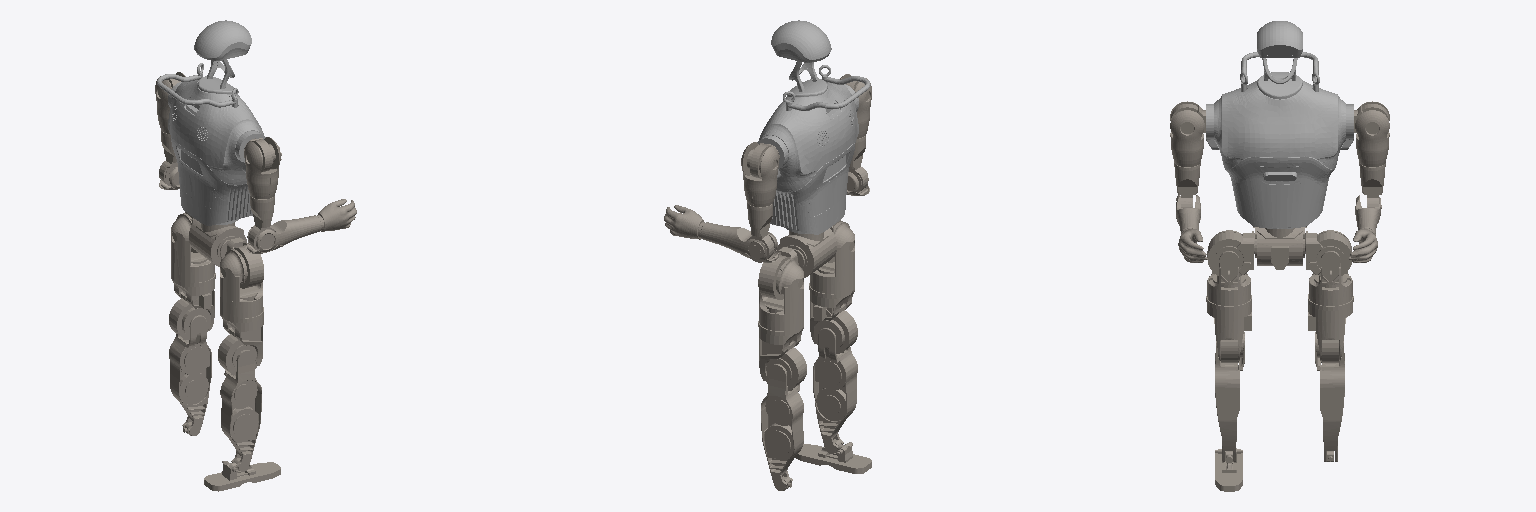
--- Facts derived from the render (not from the file) ---
Views: 3 orthographic renders of the robot side by side, from view 1: azimuth 30°, elevation 25°; view 2: azimuth 150°, elevation 25°; view 3: azimuth 270°, elevation 25°.
Model e3 with 23 links and 22 joints (21 revolute, 1 fixed), rooted at pelvis_link, posed every joint at zero.
Visible links, largest first — view 1: torso_link, left_knee_link, right_knee_link, right_elbow_link, right_hip_roll_link, left_hip_roll_link, left_hip_yaw_link, right_hip_yaw_link, right_shoulder_roll_link, pelvis_link, right_ankle_roll_link, right_hip_pitch_link (+3 smaller); view 2: torso_link, right_knee_link, left_knee_link, left_hip_roll_link, left_elbow_link, right_hip_roll_link, right_hip_yaw_link, left_hip_yaw_link, left_shoulder_roll_link, pelvis_link, right_ankle_roll_link, left_shoulder_yaw_link (+3 smaller); view 3: torso_link, right_knee_link, left_knee_link, left_hip_roll_link, right_hip_roll_link, pelvis_link, left_shoulder_roll_link, right_shoulder_roll_link, right_hip_yaw_link, left_hip_yaw_link, right_hip_pitch_link, left_hip_pitch_link (+5 smaller).
Boxes of the visible links, x1,y1,x2,y2 form: torso_link: (157, 20, 265, 225); left_knee_link: (169, 315, 211, 435); right_knee_link: (220, 350, 261, 471); right_elbow_link: (246, 199, 356, 253); right_hip_roll_link: (220, 249, 263, 322); left_hip_roll_link: (171, 213, 215, 286); left_hip_yaw_link: (169, 281, 214, 339); right_hip_yaw_link: (218, 316, 263, 375); right_shoulder_roll_link: (244, 137, 280, 198); pelvis_link: (189, 218, 246, 266); right_ankle_roll_link: (204, 461, 280, 491); right_hip_pitch_link: (220, 237, 263, 288); torso_link: (757, 20, 870, 234); right_knee_link: (813, 328, 857, 453); left_knee_link: (761, 364, 803, 490); left_hip_roll_link: (758, 259, 803, 335); left_elbow_link: (664, 205, 778, 262); right_hip_roll_link: (809, 222, 854, 298); right_hip_yaw_link: (810, 292, 857, 353); left_hip_yaw_link: (759, 329, 806, 390); left_shoulder_roll_link: (741, 142, 778, 206); pelvis_link: (777, 226, 836, 277); right_ankle_roll_link: (795, 442, 871, 473); left_shoulder_yaw_link: (747, 203, 774, 262); torso_link: (1206, 21, 1353, 228); right_knee_link: (1215, 332, 1244, 461); left_knee_link: (1315, 332, 1344, 461); left_hip_roll_link: (1308, 230, 1353, 310); right_hip_roll_link: (1206, 230, 1251, 310); pelvis_link: (1253, 226, 1306, 269); left_shoulder_roll_link: (1355, 101, 1389, 166); right_shoulder_roll_link: (1170, 101, 1204, 166); right_hip_yaw_link: (1207, 304, 1251, 362); left_hip_yaw_link: (1308, 304, 1352, 362); right_hip_pitch_link: (1207, 231, 1254, 276); left_hip_pitch_link: (1305, 231, 1351, 276).
Size in the robot's own frame: 0.4943 by 0.6129 by 1.39 metres.
Meshes: 22 distinct files referenced, 21 mesh visuals loaded (21 binary STL); not drawn: 1 (reference not matched to a file when rendering).

URDF robot description (e3):
<?xml version="1.0" encoding="utf-8"?>
<!-- This URDF was automatically created by SolidWorks to URDF Exporter! Originally created by Stephen Brawner ([email redacted]) 
     Commit Version: 1.6.0-4-g7f85cfe  Build Version: 1.6.7995.38578
     For more information, please see http://wiki.ros.org/sw_urdf_exporter -->
<robot name="e3">
  <!-- <mujoco>
    <compiler meshdir="meshes" discardvisual="false"/>
  </mujoco>
  <link name="world"></link>
  <joint name="floating_base_joint" type="floating">
    <parent link="world"/>
    <child link="pelvis_link"/>
  </joint> -->


  <link
    name="pelvis_link">
    <inertial>
      <origin
        xyz="0.000508 0.000303 0.035758"
        rpy="0 0 0" />
      <mass
        value="5.119835" />
      <inertia
        ixx="0.022863"
        ixy="0.000002"
        ixz="0.000106"
        iyy="0.019513"
        iyz="-0.000153"
        izz="0.012083" />
    </inertial>
    <visual>
      <origin
        xyz="0 0 0"
        rpy="0 0 0" />
      <geometry>
        <mesh
          filename="./meshes/pelvis.STL" />
      </geometry>
      <material
        name="">
        <color
          rgba="0.64706 0.61961 0.58824 1" />
      </material>
    </visual>
    <collision>
      <origin
        xyz="0 0 0"
        rpy="0 0 0" />
      <geometry>
        <mesh filename="meshes/pelvis.STL"/>
      </geometry>
    </collision>
  </link>

  <joint name="imu_joint" type="fixed">
    <origin rpy="0. 0. 0." xyz="0. 0. 0"/>
    <parent link="pelvis_link"/>
    <child link="imu_link"/>
  </joint>

    <!-- Imu link -->
  <link name="imu_link">
    <inertial>
      <mass value="0.01"/>
      <origin rpy="0 0 0" xyz="0 0 0"/>
      <inertia ixx="0.000001" ixy="0" ixz="0" iyy="0.000001" iyz="0" izz="0.000001"/>
    </inertial>
    <visual>
      <origin rpy="0 0 0" xyz="0 0 0"/>
      <geometry>
        <box size="0.015 0.015 0.004"/>
      </geometry>
    </visual>
    <material name="orange">
      <color rgba="255 108 10 255"/>
    </material>
  </link>

    <!-- Torso -->
  <joint name="waist_joint" type="revolute">
    <origin xyz="0 0 0.3763" rpy="0 0 0"/>
    <parent link="pelvis_link"/>
    <child link="torso_link"/>
    <axis xyz="0 0 1"/>
    <limit lower="-1.57" upper="1.57" effort="144" velocity="20"/>
  </joint>
  
  <link name="torso_link">
    <inertial>
      <origin xyz="-0.006939 -0.002038 -0.085719" rpy="0 0 0"/>
      <mass value="13.759631"/>
      <inertia ixx="0.327498" ixy="0.000705" ixz="0.001071" iyy="0.269489" iyz="-0.004427" izz="0.140454"/>
    </inertial>
    <visual>
      <origin xyz="0 0 0.0" rpy="0 0 0"/>
      <geometry>
        <mesh filename="meshes/torso_link.STL"/>
      </geometry>
      <material name="white">
        <color rgba="0.7 0.7 0.7 1"/>
      </material>
    </visual>
    <collision>
      <origin xyz="0 0 0.0" rpy="0 0 0"/>
      <geometry>
        <mesh filename="meshes/torso_link.STL"/>
      </geometry>
    </collision>
  </link>

  <link
    name="left_hip_pitch_link">
    <inertial>
      <origin  xyz="0.011949 -0.00848 -0.026594"  rpy="0 0 0" />
      <mass value="1.816901" />
      <inertia ixx="0.001651"  ixy="-0.000034"  ixz="0.000015"  iyy="0.000959"  iyz="0.000201"  izz="0.001576" />
    </inertial>
    <visual>
      <origin
        xyz="0 0 0"
        rpy="0 0 0" />
      <geometry>
        <mesh
          filename="./meshes/leg_l1_link.STL" />
      </geometry>
      <material
        name="">
        <color
          rgba="0.64706 0.61961 0.58824 1" />
      </material>
    </visual>
    <collision>
      <origin xyz="0 0 0.0" rpy="0 0 0"/>
      <geometry>
        <mesh filename="meshes/leg_l1_link.STL"/>
      </geometry>
    </collision>
  </link>
  <joint
    name="left_hip_pitch_joint"
    type="revolute">
    <origin
      xyz="0 0.1413 0"
      rpy="0 0 0" />
    <parent
      link="pelvis_link" />
    <child
      link="left_hip_pitch_link" />
    <axis
      xyz="0 1 0" />
    <limit
      lower="-2.53"
      upper="2.53"
      effort="144"
      velocity="20" />
  </joint>
  <link
    name="left_hip_roll_link">
    <inertial>
      <origin  xyz="-0.002932 0.000098 -0.097396"  rpy="0 0 0" />
      <mass  value="2.261445" />
      <inertia   ixx="0.005632" ixy="-0.000002" ixz="0.000169"  iyy="0.006378" iyz="0.000004" izz="0.004402" />
    </inertial>
    <visual>
      <origin
        xyz="0 0 0"
        rpy="0 0 0" />
      <geometry>
         
        <mesh
          filename="./meshes/leg_l2_link_144.STL" />
      </geometry>
      <material
        name="">
        <color
          rgba="0.64706 0.61961 0.58824 1" />
      </material>
    </visual>
    <!-- <collision>
      <origin
        xyz="0 0 0"
        rpy="0 1.57 0" />
      <geometry>
         <cylinder length="0.05" radius="0.06"/>
      </geometry>
    </collision> -->
    <collision>
      <origin xyz="0 0 0.0" rpy="0 0 0"/>
      <geometry>
        <mesh filename="meshes/leg_l2_link_144.STL"/>
      </geometry>
    </collision>
  </link>
  <joint
    name="left_hip_roll_joint"
    type="revolute">
    <origin
      xyz="0.0 0 -0.0285"
      rpy="0 0 0" />
    <parent
      link="left_hip_pitch_link" />
    <child
      link="left_hip_roll_link" />
    <axis
      xyz="1 0 0" />
    <limit
      lower="-0.611"
      upper="3.23"
      effort="144"
      velocity="20" />
  </joint>
  <link
    name="left_hip_yaw_link">
    <inertial>
      <origin xyz="-0.001336 -0.000844 -0.104378" rpy="0 0 0" />
      <mass value="2.233223" />
      <inertia  ixx="0.005397" ixy="-0.000015"  ixz="-0.000535" iyy="0.0057" iyz="0.000012"  izz="0.001962" />
    </inertial>
    <visual>
      <origin
        xyz="0 0 0"
        rpy="0 0 0" />
      <geometry>
        <mesh
          filename="./meshes/leg_l3_link_144.STL" />
      </geometry>
      <material
        name="">
        <color
          rgba="0.64706 0.61961 0.58824 1" />
      </material>
    </visual>
    <!-- <collision>
      <origin
        xyz="0 0 -0.05"
        rpy="0 0 0" />
      <geometry>
          <box size="0.05 0.05 0.15"/>
      </geometry>
    </collision> -->
    <collision>
      <origin xyz="0 0 0.0" rpy="0 0 0"/>
      <geometry>
        <mesh filename="meshes/leg_l3_link_144.STL"/>
      </geometry>
    </collision>
  </link>
  <joint
    name="left_hip_yaw_joint"
    type="revolute">
    <origin
      xyz="-0.0 0 -0.1458"
      rpy="0 0 0" />
    <parent
      link="left_hip_roll_link" />
    <child
      link="left_hip_yaw_link" />
    <axis
      xyz="0 0 1" />
    <limit
      lower="-1.05"
      upper="1.05"
      effort="144"
      velocity="20" />
  </joint>
  <link name="left_knee_link">
    <inertial>
      <origin  xyz="0.001004 0.001585 -0.170623"  rpy="0 0 0" />
      <mass  value="2.889750" />
      <inertia ixx="0.020628"  ixy="0.000043" ixz="0.000485"  iyy="0.021234"  iyz="-0.000475"  izz="0.002830" />
    </inertial>
    <visual>
      <origin
        xyz="0 0 0"
        rpy="0 0 0" />
      <geometry>
        <mesh
          filename="./meshes/leg_l4_link.STL" />
      </geometry>
      <material
        name="">
        <color
          rgba="0.64706 0.61961 0.58824 1" />
      </material>
    </visual>
    <collision>
      <origin
        xyz="0 0 -0.2"
        rpy="0 0 0" />
      <geometry>
          <box size="0.05 0.05 0.2"/>
      </geometry>
    </collision>
  </link>
  <joint
    name="left_knee_joint"
    type="revolute">
    <origin
      xyz="-0.008 0 -0.1317"
      rpy="0 0 0" />
    <parent
      link="left_hip_yaw_link" />
    <child
      link="left_knee_link" />
    <axis
      xyz="0 1 0" />
    <limit
      lower="-0.349"
      upper="2.355"
      effort="144"
      velocity="20" />
  </joint>

  <link
     name="left_ankle_pitch_link">
    <inertial>
      <origin  xyz="0 0 0"  rpy="0 0 0" />
      <mass  value="0.088534" />
       <!-- <inertia ixx="0.01" ixy="0" ixz="0.0" iyy="0.01" iyz="0" izz="0.01"/> -->
      <inertia
        ixx="3.0975E-05"
        ixy="0"
        ixz="0"
        iyy="3.1274E-05"
        iyz="0"
        izz="3.1681E-05" />
    </inertial>
    <visual>
      <origin
        xyz="0 0 0"
        rpy="0 0 0" />
      <geometry>
        <mesh
          filename="./meshes/leg_l5_link.STL" />
      </geometry>
      <material
        name="">
        <color
          rgba="0.64706 0.61961 0.58824 1" />
      </material>
    </visual>
  </link>
  
  <joint
    name="left_ankle_pitch_joint"
    type="revolute">
    <origin
      xyz="0 0 -0.35"
      rpy="0 0 0" />
    <parent
      link="left_knee_link" />
    <child
      link="left_ankle_pitch_link" />
    <axis
      xyz="0 1 0" />
    <limit
      lower="-0.785"
      upper="1.05"
      effort="48"
      velocity="20" />
  </joint>
  <link
    name="left_ankle_roll_link">
    <inertial>
      <origin xyz="-0.000705 1.4E-05 -0.028746"  rpy="0 0 0" />
      <mass  value="0.611" />
      <inertia ixx="0.01" ixy="0" ixz="0.0" iyy="0.01" iyz="0" izz="0.01"/>
      <!-- <inertia
        ixx="0.00105334189"
        ixy="-0.0"
        ixz="0.0"
        iyy="0.00606712875"
        iyz="0.0"
        izz="0.00646061141" /> -->
    </inertial>

    <visual>
      <origin
        xyz="0 0 0"
        rpy="0 0 0" />
      <geometry>
        <mesh
          filename="./meshes/leg_l6_link.STL" />
      </geometry>
      <material
        name="">
        <color
          rgba="0.64706 0.61961 0.58824 1" />
      </material>
    </visual>
    <collision>
      <origin rpy="0 0 0" xyz="0.01 0 -0.05"/>
      <geometry>
        <box size="0.22 0.06 0.01"/>
      </geometry>
    </collision>
     <!-- <collision>
      <origin
        xyz="0 0 0"
        rpy="0 0 0" />
      <geometry>
        <mesh
          filename="../meshes/leg_l6_link.STL" />
      </geometry>
    </collision> -->
  </link>
  <joint
    name="left_ankle_roll_joint"
    type="revolute">
    <origin
      xyz="0 0 0"
      rpy="0 0 0" />
    <parent
      link="left_ankle_pitch_link" />
    <child
      link="left_ankle_roll_link" />
    <axis
      xyz="1 0 0" />
    <limit
      lower="-0.26"
      upper="0.26"
      effort="48"
      velocity="20" />
  </joint>

  <link
   name="right_hip_pitch_link">
    <inertial>
      <origin  xyz="0.011914 0.008479 -0.026587"  rpy="0 0 0" />
      <mass value="1.816858" />
      <inertia ixx="0.001651"  ixy="0.000034"  ixz="0.000015"  iyy="0.000957"  iyz="-0.000201"  izz="0.001575" />
    </inertial>
    <visual>
      <origin
        xyz="0 0 0"
        rpy="0 0 0" />
      <geometry>
        <mesh
          filename="./meshes/leg_r1_link.STL" />
      </geometry>
      <material
        name="">
        <color
          rgba="0.64706 0.61961 0.58824 1" />
      </material>
    </visual>
    <collision>
      <origin
        xyz="0 0 0"
        rpy="0 0 0" />
      <geometry>
        <mesh
          filename="./meshes/leg_r1_link.STL" />
      </geometry>
    </collision>
  </link>
  <joint
    name="right_hip_pitch_joint"
    type="revolute">
    <origin
      xyz="0 -0.1413 0"
      rpy="0 0 0" />
    <parent
      link="pelvis_link" />
    <child
      link="right_hip_pitch_link" />
    <axis
      xyz="0 1 0" />
    <limit
      lower="-2.53"
      upper="2.53"
      effort="144"
      velocity="20" />
  </joint>
  <link
    name="right_hip_roll_link">
    <inertial>
      <origin  xyz="-0.002874 0.000215 -0.097305"  rpy="0 0 0" />
      <mass  value="2.020075" />
      <inertia   ixx="0.005648" ixy="-3E-6" ixz="0.000160"  iyy="0.006397" iyz="-0.000002" izz="0.004413" />
    </inertial>
    <visual>
      <origin
        xyz="0 0 0"
        rpy="0 0 0" />
      <geometry>
        <mesh
          filename="./meshes/leg_r2_link_144.STL" />
      </geometry>
      <material
        name="">
        <color
          rgba="0.64706 0.61961 0.58824 1" />
      </material>
    </visual>
    <!-- <collision>
      <origin
        xyz="0 0 0"
        rpy="0 1.57 0" />
      <geometry>
            <cylinder length="0.05" radius="0.06"/>
      </geometry>
    </collision> -->
    <collision>
      <origin
        xyz="0 0 0"
        rpy="0 0 0" />
      <geometry>
        <mesh
          filename="./meshes/leg_r2_link_144.STL" />
      </geometry>
    </collision>
  </link>
  <joint
    name="right_hip_roll_joint"
    type="revolute">
    <origin
      xyz="0 0 -0.0285"
      rpy="0 0 0" />
    <parent
      link="right_hip_pitch_link" />
    <child
      link="right_hip_roll_link" />
    <axis
      xyz="1 0 0" />
    <limit
      lower="-3.23"
      upper="0.611"
      effort="144"
      velocity="20" />
  </joint>
  <link
    name="right_hip_yaw_link">
    <inertial>
      <origin xyz="0.000912 0.001350 -0.104391" rpy="0 0 0" />
      <mass value="2.231719" />
      <inertia  ixx="0.005690" ixy="-0.000016"  ixz="-0.000008" iyy="0.005388" iyz="0.000535"  izz="0.001958" />
    </inertial>
    <visual>
      <origin
        xyz="0 0 0"
        rpy="0 0 0" />
      <geometry>
        <mesh
          filename="./meshes/leg_r3_link_144.STL" />
      </geometry>
      <material
        name="">
        <color
          rgba="0.64706 0.61961 0.58824 1" />
      </material>
    </visual>
    <!-- <collision>
      <origin
        xyz="0 0 -0.05"
        rpy="0 0 0" />
      <geometry>
           <box size="0.05 0.05 0.15"/>
      </geometry>
    </collision> -->
    <collision>
      <origin
        xyz="0 0 0"
        rpy="0 0 0" />
      <geometry>
        <mesh
          filename="./meshes/leg_r3_link_144.STL" />
      </geometry>
    </collision>
  </link>
  <joint
    name="right_hip_yaw_joint"
    type="revolute">
    <origin
      xyz="0 0 -0.1458"
      rpy="0 0 0" />
    <parent
      link="right_hip_roll_link" />
    <child
      link="right_hip_yaw_link" />
    <axis
      xyz="0 0 1" />
    <limit
      lower="-1.05"
      upper="1.05"
      effort="144"
      velocity="20" />
  </joint>
  <link
    name="right_knee_link">
    <inertial>
      <origin  xyz="-0.001668 -0.001457 -0.178503"  rpy="0 0 0" />
      <mass  value="2.866292" />
      <inertia ixx="0.022193"  ixy="-0.000046" ixz="-0.000519"  iyy="0.023014"  iyz="0.000295"  izz="0.002999" />
    </inertial>
    <visual>
      <origin
        xyz="0 0 0"
        rpy="0 0 0" />
      <geometry>
        <mesh
          filename="./meshes/leg_r4_link.STL" />
      </geometry>
      <material
        name="">
        <color
          rgba="0.64706 0.61961 0.58824 1" />
      </material>
    </visual>
    <collision>
      <origin
        xyz="0 0 -0.2"
        rpy="0 0 0" />
      <geometry>
          <box size="0.05 0.05 0.2"/>
      </geometry>
    </collision>
  </link>
  <joint
    name="right_knee_joint"
    type="revolute">
    <origin
      xyz="-0.008 0 -0.1317"
      rpy="0 0 0" />
    <parent
      link="right_hip_yaw_link" />
    <child
      link="right_knee_link" />
    <axis
      xyz="0 1 0" />
    <limit
      lower="-0.349"
      upper="2.355"
      effort="144"
      velocity="20" />
  </joint>

  <link name="right_ankle_pitch_link">
    <inertial>
      <origin  xyz="0 0 0"  rpy="0 0 0" />
      <mass  value="0.088534" />
      <!-- <inertia ixx="0.01" ixy="0" ixz="0" iyy="0.01" iyz="0" izz="0.01"/> -->
      <inertia
        ixx="3.0975E-05"
        ixy="0"
        ixz="0"
        iyy="3.1274E-05"
        iyz="0"
        izz="3.1274E-05" />

    </inertial>

    <visual>
      <origin
        xyz="0 0 0"
        rpy="0 0 0" />
      <geometry>
        <mesh
          filename="./meshes/leg_r5_link.STL" />
      </geometry>
      <material
        name="">
        <color
          rgba="0.64706 0.61961 0.58824 1" />
      </material>
    </visual>
  </link>
  <joint
    name="right_ankle_pitch_joint"
    type="revolute">
    <origin
      xyz="0 0 -0.35"
      rpy="0 0 0" />
    <parent
      link="right_knee_link" />
    <child
      link="right_ankle_pitch_link" />
    <axis
      xyz="0 1 0" />
    <limit
      lower="-0.785"
      upper="1.05"
      effort="48"
      velocity="20" />
  </joint>
  <link
    name="right_ankle_roll_link">
    <inertial>
      <origin xyz="-0.000705 1.4E-05 -0.028746"  rpy="0 0 0" />
      <mass  value="0.611" />
      <inertia ixx="0.01" ixy="0" ixz="0.0" iyy="0.01" iyz="0" izz="0.01"/>
      <!-- <inertia
        ixx="0.00105336111"
        ixy="0.0"
        ixz="0.0"
        iyy="0.00606728572"
        iyz="-0.0"
        izz="0.00646075577" /> -->
    </inertial>

    <visual>
      <origin
        xyz="0 0 0"
        rpy="0 0 0" />
      <geometry>
        <mesh
          filename="./meshes/leg_r6_link.STL" />
      </geometry>
      <material
        name="">
        <color
          rgba="0.64706 0.61961 0.58824 1" />
      </material>
    </visual>
    <collision>
      <origin rpy="0 0 0" xyz="0.01 0 -0.05"/>
      <geometry>
        <box size="0.22 0.06 0.01"/>
      </geometry>
    </collision>
    <!-- <collision>
      <origin
        xyz="0 0 0"
        rpy="0 0 0" />
      <geometry>
        <mesh
          filename="../meshes/leg_r6_link.STL" />
      </geometry>
    </collision> -->
  </link>
  <joint
    name="right_ankle_roll_joint"
    type="revolute">
    <origin
      xyz="0 0 0"
      rpy="0 0 0" />
    <parent
      link="right_ankle_pitch_link" />
    <child
      link="right_ankle_roll_link" />
    <axis
      xyz="1 0 0" />
    <limit
      lower="-0.26"
      upper="0.26"
      effort="48"
      velocity="20" />
  </joint>
  <link
    name="left_shoulder_pitch_link">
    <inertial>
      <origin  xyz="-0.003432 -0.009458 -0.00891"  rpy="0 0 0" />
      <mass  value="0.859213" />
      <inertia ixx="0.001249"  ixy="0.000029"  ixz="0.000022"  iyy="0.000590"  iyz="0.000026" izz="0.000975" />
    </inertial>
    <visual>
      <origin
        xyz="0 0 0"
        rpy="0 0 0" />
      <geometry>
        <mesh
          filename="meshes/arm_l1_link.STL" />
      </geometry>
      <material
        name="">
        <color
          rgba="0.64706 0.61961 0.58824 1" />
      </material>
    </visual>
    <!-- <collision>
      <origin
        xyz="0 0 0"
        rpy="0 0 0" />
      <geometry>
        <mesh
          filename="meshes/arm_l1_link.STL" />
      </geometry>
    </collision> -->
  </link>

  <joint
    name="left_shoulder_pitch_joint"
    type="revolute">
    <origin
      xyz="0 0.25799 0.0"
      rpy="0 0 0" />
    <parent
      link="torso_link" />
    <child
      link="left_shoulder_pitch_link" />
    <axis
      xyz="0 1 0" />
    <limit
      lower="-2.74"
      upper="1.96"
      effort="24"
      velocity="20" />
  </joint>

  <link
    name="left_shoulder_roll_link">
    <inertial>
      <origin xyz="0.004195 0.000475 -0.057018"  rpy="0 0 0" />
      <mass  value="0.701407" />
      <inertia  ixx="0.001561"  ixy="-0.000083"  ixz="-0.000173"  iyy="0.001606"  iyz="0.000003"  izz="0.000973" />
    </inertial>
    <visual>
      <origin
        xyz="0 0 0"
        rpy="0 0 0" />
      <geometry>
        <mesh
          filename="meshes/arm_l2_link.STL" />
      </geometry>
      <material
        name="">
        <color
          rgba="0.64706 0.61961 0.58824 1" />
      </material>
    </visual>
    <!-- <collision>
      <origin
        xyz="0 0 0"
        rpy="0 0 0" />
      <geometry>
        <mesh
          filename="meshes/arm_l2_link.STL" />
      </geometry>
    </collision> -->
  </link>

  <joint
    name="left_shoulder_roll_joint"
    type="revolute">
    <origin
      xyz="0 0 0"
      rpy="0 0 0" />
    <parent
      link="left_shoulder_pitch_link" />
    <child
      link="left_shoulder_roll_link" />
    <axis
      xyz="1 0 0.0" />
    <limit
      lower="-0.17"
      upper="3.01"
      effort="24"
      velocity="20" />
  </joint>
  <link
    name="left_shoulder_yaw_link">
    <inertial>
      <origin xyz="-0.000223 0.000795 -0.127372"  rpy="0 0 0" />
      <mass  value="0.541958" />
      <inertia  ixx="0.001426"  ixy="-0.000028"  ixz="0.000073"  iyy="0.001848"  iyz="-0.000004"  izz="0.000644" />
    </inertial>
    <visual>
      <origin
        xyz="0 0 0"
        rpy="0 0 0" />
      <geometry>
        <mesh
          filename="meshes/arm_l3_link.STL" />
      </geometry>
      <material
        name="">
        <color
          rgba="0.64706 0.61961 0.58824 1" />
      </material>
    </visual>
    <collision>
      <origin
        xyz="0 0 0"
        rpy="0 0 0" />
      <geometry>
        <mesh
          filename="meshes/arm_l3_link.STL" />
      </geometry>
    </collision>
  </link>
  <joint
    name="left_shoulder_yaw_joint"
    type="revolute">
    <origin
      xyz="0 0 -0.1019"
      rpy="0 0 0" />
    <parent
      link="left_shoulder_roll_link" />
    <child
      link="left_shoulder_yaw_link" />
    <axis
      xyz="0 0 1" />
    <limit
      lower="-3.14"
      upper="1.57"
      effort="5"
      velocity="20" />
  </joint>
 <link
    name="left_elbow_link">
    <inertial>
      <origin xyz="0.103629 0.001055 -0.003321"  rpy="0 0 0" />
      <mass  value="0.368568" />
      <inertia  ixx="0.000281"  ixy="0.0000025"  ixz="-0.000126"  iyy="0.002877"  iyz="0.000002"  izz="0.002879" />
    </inertial>
    <visual>
      <origin
        xyz="0 0 0"
        rpy="0 0 0" />
      <geometry>
        <mesh
          filename="meshes/arm_l4_link.STL" />
      </geometry>
      <material
        name="">
        <color
          rgba="0.64706 0.61961 0.58824 1" />
      </material>
    </visual>
    <collision>
      <origin
        xyz="0 0 0"
        rpy="0 0 0" />
      <geometry>
        <mesh
          filename="meshes/arm_l4_link.STL" />
      </geometry>
    </collision>
  </link>
  <joint
    name="left_elbow_joint"
    type="revolute">
    <origin
      xyz="0 -0.0062 -0.1616"
      rpy="0 0 0" />
    <parent
      link="left_shoulder_yaw_link" />
    <child
      link="left_elbow_link" />
    <axis
      xyz="0 1 0" />
    <limit
      lower="-0.9"
      upper="1.57"
      effort="5"
      velocity="20" />
  </joint>

  <link
    name="right_shoulder_pitch_link">
     <inertial>
      <origin  xyz="-0.003672 0.009404 -0.000747"  rpy="0 0 0" />
      <mass  value="0.870023" />
      <inertia ixx="0.001279"  ixy="-0.000030"  ixz="0.000016"  iyy="0.000567"  iyz="-0.000017" izz="0.001006" />
    </inertial>
    <visual>
      <origin
        xyz="0 0 0"
        rpy="0 0 0" />
      <geometry>
        <mesh
          filename="meshes/arm_r1_link.STL" />
      </geometry>
      <material
        name="">
        <color
          rgba="0.64706 0.61961 0.58824 1" />
      </material>
    </visual>
    <!-- <collision>
      <origin
        xyz="0 0 0"
        rpy="0 0 0" />
      <geometry>
        <mesh
          filename="meshes/arm_r1_link.STL" />
      </geometry>
    </collision> -->
  </link>

  <joint
    name="right_shoulder_pitch_joint"
    type="revolute">
    <origin
      xyz="0 -0.25799 0.0"
      rpy="0 0 0" />
    <parent
      link="torso_link" />
    <child
      link="right_shoulder_pitch_link" />
    <axis
      xyz="0 1 0" />
    <limit
      lower="-2.74"
      upper="1.96"
      effort="24"
      velocity="20" />
  </joint>
  <link
    name="right_shoulder_roll_link">
    <inertial>
      <origin xyz="0.004341 -0.000257 -0.056511"  rpy="0 0 0" />
      <mass  value="0.712915" />
      <inertia  ixx="0.001609"  ixy="0.000016"  ixz="-0.000130"  iyy="0.001425"  iyz="0.000013"  izz="0.001160" />
    </inertial>
    <visual>
      <origin
        xyz="0 0 0"
        rpy="0 0 0" />
      <geometry>
        <mesh
          filename="meshes/arm_r2_link.STL" />
      </geometry>
      <material
        name="">
        <color
          rgba="0.64706 0.61961 0.58824 1" />
      </material>
    </visual>
    <!-- <collision>
      <origin
        xyz="0 0 0"
        rpy="0 0 0" />
      <geometry>
        <mesh
          filename="meshes/arm_r2_link.STL" />
      </geometry>
    </collision> -->
  </link>
  <joint
    name="right_shoulder_roll_joint"
    type="revolute">
    <origin
      xyz="0 0 0"
      rpy="0 0 0" />
    <parent
      link="right_shoulder_pitch_link" />
    <child
      link="right_shoulder_roll_link" />
    <axis
      xyz="1 0 0" />
    <limit
      lower="-3.01"
      upper="0.17"
      effort="24"
      velocity="20" />
  </joint>
  <link
    name="right_shoulder_yaw_link">
    <inertial>
      <origin xyz="-0.000140 -0.000801 -0.127387"  rpy="0 0 0" />
      <mass  value="0.541111" />
      <inertia  ixx="0.001408"  ixy="0.000026"  ixz="0.000001"  iyy="0.001836"  iyz="0.000016"  izz="0.000643" />
    </inertial>
    <visual>
      <origin
        xyz="0 0 0"
        rpy="0 0 0" />
      <geometry>
        <mesh
          filename="meshes/arm_r3_link.STL" />
      </geometry>
      <material
        name="">
        <color
          rgba="0.64706 0.61961 0.58824 1" />
      </material>
    </visual>
    <collision>
      <origin
        xyz="0 0 0"
        rpy="0 0 0" />
      <geometry>
        <mesh
          filename="meshes/arm_r3_link.STL" />
      </geometry>
    </collision>
  </link>
  <joint
    name="right_shoulder_yaw_joint"
    type="revolute">
    <origin
      xyz="0 0 -0.1019"
      rpy="0 0 0" />
    <parent
      link="right_shoulder_roll_link" />
    <child
      link="right_shoulder_yaw_link" />
    <axis
      xyz="0 0 1" />
    <limit
      lower="-1.57"
      upper="3.14"
      effort="5"
      velocity="20" />
  </joint>
 <link
    name="right_elbow_link">
    <inertial>
      <origin xyz="0.103611 -0.001052 -0.003324"  rpy="0 0 0" />
      <mass  value="0.368568" />
      <inertia  ixx="0.000281"  ixy="-0.0000025"  ixz="-0.000126"  iyy="0.002878"  iyz="-0.000002"  izz="0.002879" />
    </inertial>
    <visual>
      <origin
        xyz="0 0 0"
        rpy="0 0 0" />
      <geometry>
        <mesh
          filename="meshes/arm_r4_link.STL" />
      </geometry>
      <material
        name="">
        <color
          rgba="0.64706 0.61961 0.58824 1" />
      </material>
    </visual>
    <collision>
      <origin
        xyz="0 0 0"
        rpy="0 0 0" />
      <geometry>
        <mesh
          filename="meshes/arm_r4_link.STL" />
      </geometry>
    </collision>
  </link>
  <joint name="right_elbow_joint"  type="revolute">
    <origin
      xyz="0 0.0062 -0.1616"
      rpy="0 0 0" />
    <parent
      link="right_shoulder_yaw_link" />
    <child
      link="right_elbow_link" />
    <axis
      xyz="0 1 0" />
    <limit
      lower="-0.9"
      upper="1.57"
      effort="5"
      velocity="20" />
  </joint>
</robot>
